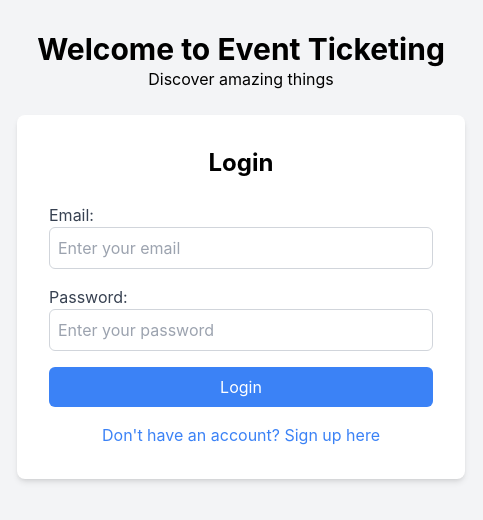
Login Page › should display error message for invalid email or password
Type "invalid@example.com" into the field named "email". click: (241, 248)
box: [49, 227, 433, 269]
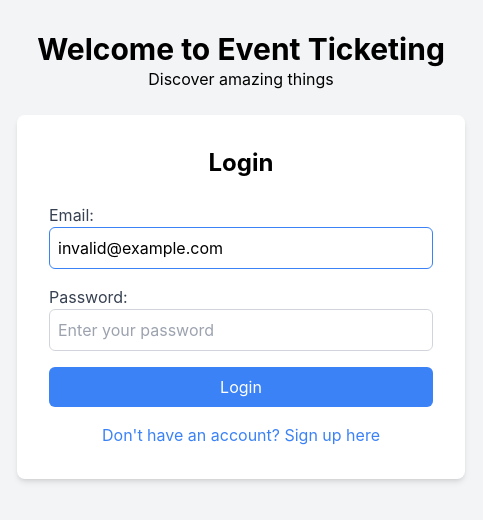
Type "invalidpassword" into the password field named "password". click: (241, 330)
box: [49, 309, 433, 351]
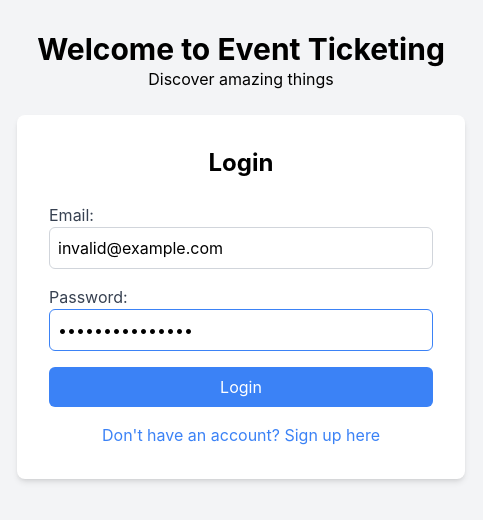
Click the submit button. click: (241, 387)
box: [49, 367, 433, 407]
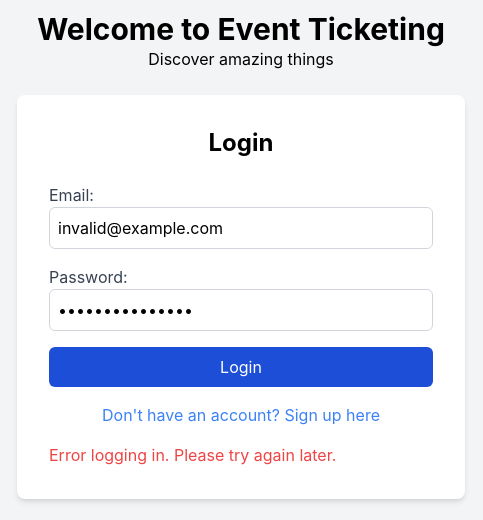
Now the text "Error logging in. Please try again later." is shown, box [49, 445, 336, 465]
